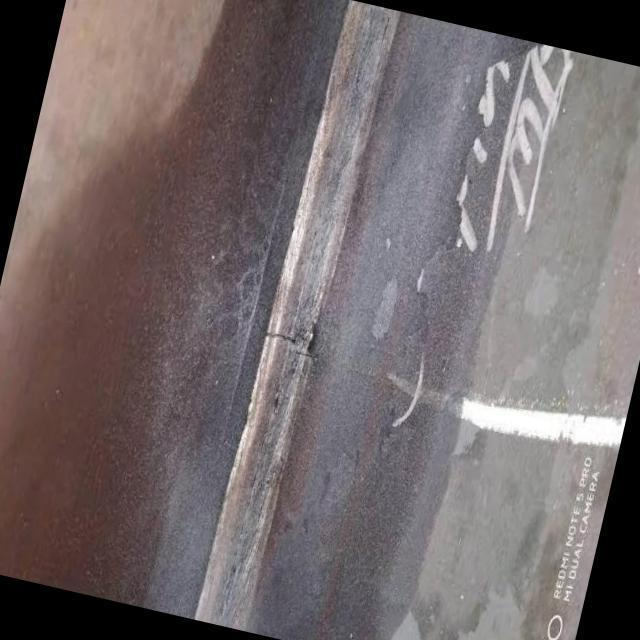defect: (265, 324, 309, 345)
